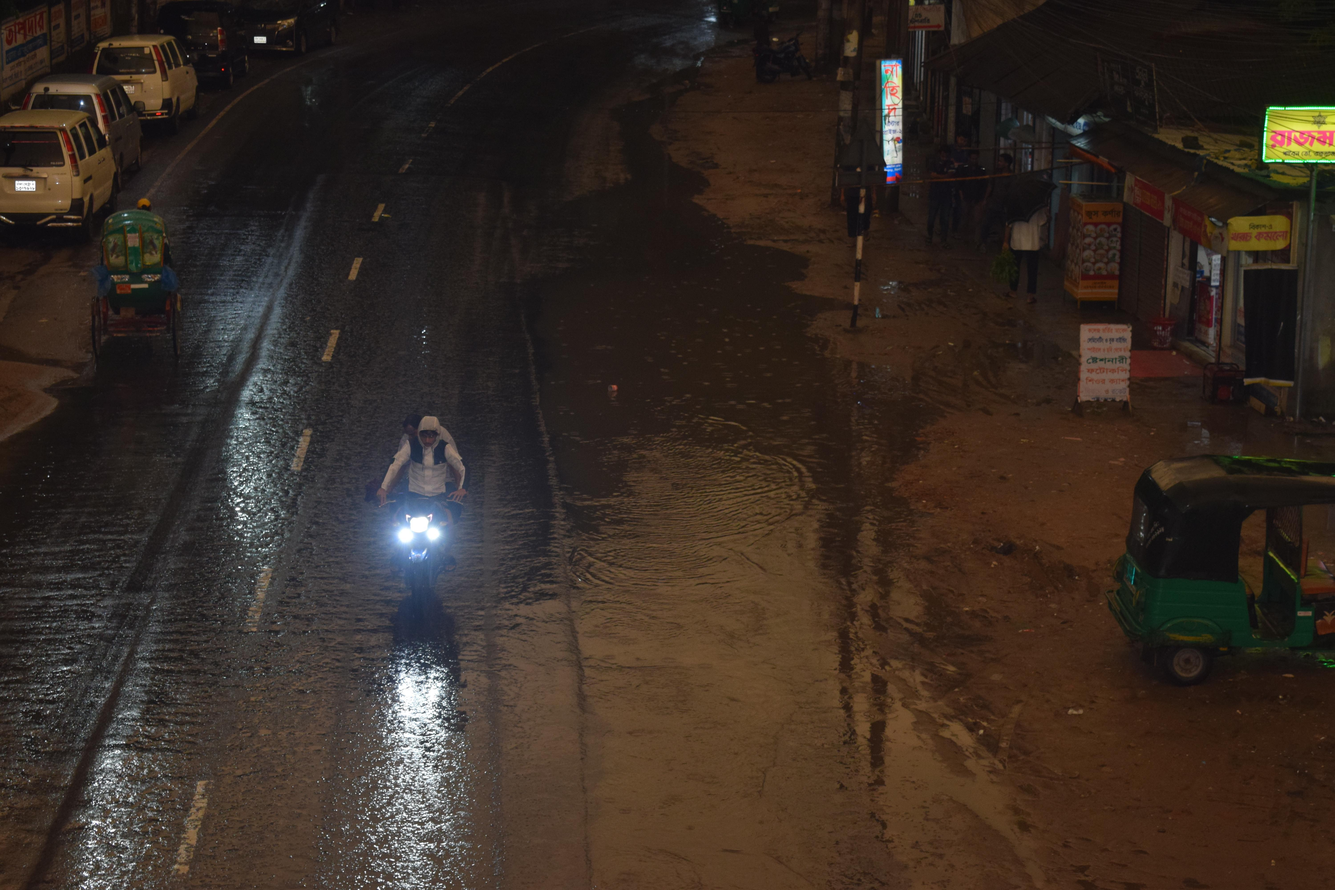Bike: (320, 364, 523, 651)
Car: (67, 172, 202, 407), (0, 99, 136, 256), (18, 61, 160, 190), (85, 18, 203, 154)
